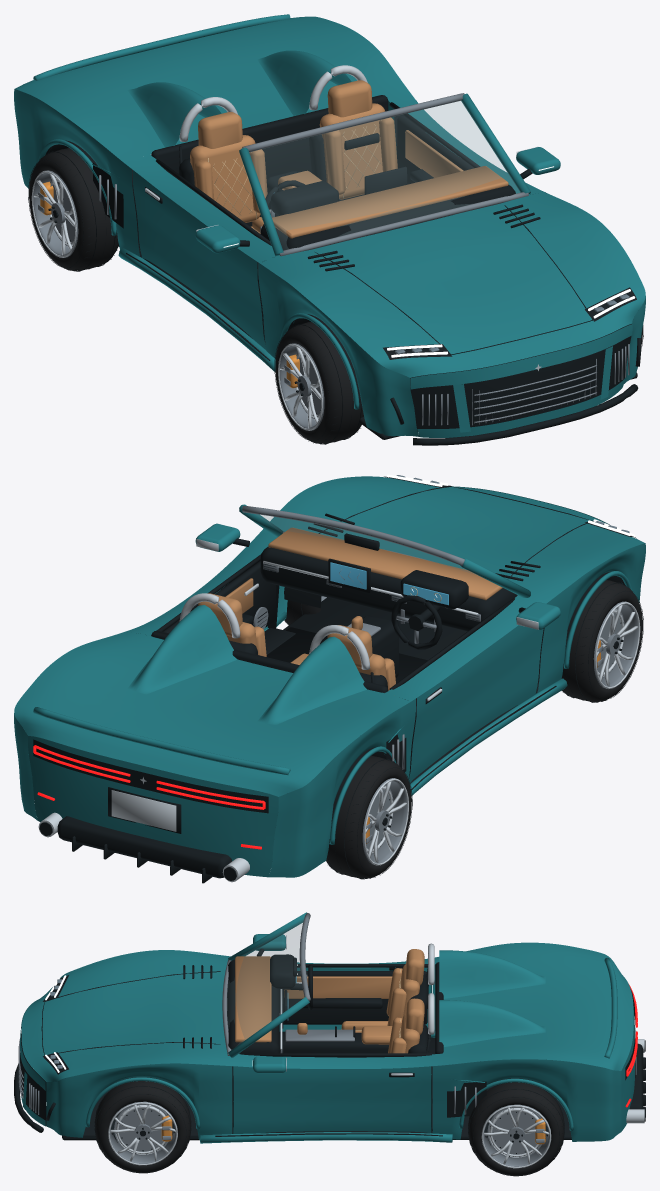
File: AstraAurora.glb
3 renders of one model, top to bottom at view 1: azimuth 30°, elevation 25°; view 2: azimuth 150°, elevation 25°; view 3: azimuth 270°, elevation 25°, orthographic. The views are drawn at different scales.
Parts seen in each view (by area): view 1: body_group_upper, body_group_body, body_group_dark, body_group_glass, body_group_leather, driver_door_body, body_group_metal, wheel_rl_spin_rubber, wheel_fl_spin_rubber, driver_door_upper, wheel_fl_spin_metal, wheel_rl_spin_metal (+7 smaller); view 2: body_group_upper, body_group_body, body_group_dark, driver_door_body, body_group_leather, body_group_chrome, wheel_rl_spin_rubber, wheel_fl_spin_rubber, driver_door_upper, body_group_metal, wheel_rl_spin_metal, wheel_fl_spin_metal (+10 smaller); view 3: body_group_body, body_group_upper, body_group_dark, body_group_leather, body_group_glass, wheel_rr_spin_rubber, wheel_fr_spin_rubber, driver_door_dark, body_group_metal, wheel_rr_spin_metal, wheel_fr_spin_metal, driver_door_leather (+6 smaller).
Boxes of the visible parts, <box> form: body_group_upper: <box>15,16,645,377</box>; body_group_body: <box>14,14,645,437</box>; body_group_dark: <box>45,95,641,445</box>; body_group_glass: <box>249,100,520,249</box>; body_group_leather: <box>190,80,508,238</box>; driver_door_body: <box>132,170,266,350</box>; body_group_metal: <box>99,93,629,425</box>; wheel_rl_spin_rubber: <box>29,148,118,270</box>; wheel_fl_spin_rubber: <box>275,321,363,443</box>; driver_door_upper: <box>133,161,274,261</box>; wheel_fl_spin_metal: <box>279,343,324,430</box>; wheel_rl_spin_metal: <box>33,170,78,257</box>; body_group_upper: <box>14,476,645,796</box>; body_group_body: <box>14,486,645,877</box>; body_group_dark: <box>33,476,636,883</box>; driver_door_body: <box>408,602,560,782</box>; body_group_leather: <box>198,527,502,690</box>; body_group_chrome: <box>38,539,478,882</box>; wheel_rl_spin_rubber: <box>326,755,411,878</box>; wheel_fl_spin_rubber: <box>561,580,642,701</box>; driver_door_upper: <box>394,595,537,697</box>; body_group_metal: <box>242,505,480,769</box>; wheel_rl_spin_metal: <box>362,778,407,865</box>; wheel_fl_spin_metal: <box>593,601,638,689</box>; body_group_body: <box>20,912,635,1143</box>; body_group_upper: <box>21,942,633,1081</box>; body_group_dark: <box>14,954,645,1140</box>; body_group_leather: <box>235,949,424,1053</box>; body_group_glass: <box>227,919,303,1044</box>; wheel_rr_spin_rubber: <box>468,1082,564,1176</box>; wheel_fr_spin_rubber: <box>95,1081,190,1173</box>; driver_door_dark: <box>256,948,431,1024</box>; body_group_metal: <box>18,913,476,1114</box>; wheel_rr_spin_metal: <box>481,1104,551,1166</box>; wheel_fr_spin_metal: <box>108,1101,177,1164</box>; driver_door_leather: <box>284,976,392,998</box>.
Size of the model in its own units: 2.31 by 1.34 by 4.64.
